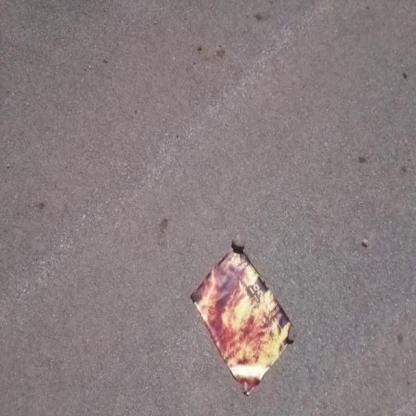fire-poster: (188, 237, 294, 397)
